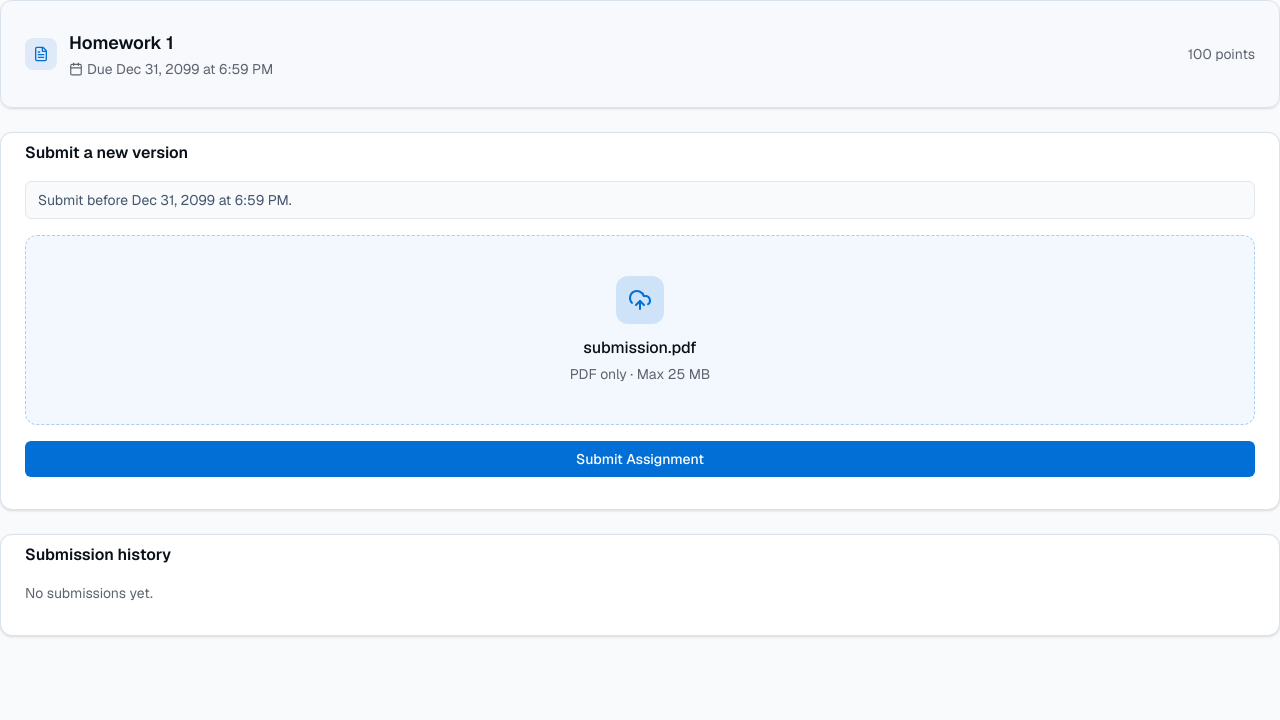
Scenario: submitNewVersion › shows fallback error when API error payload is not a string
Earlier steps of the test are not shown.
Click the button "Submit Assignment": (640, 459) [25,441,1255,477]
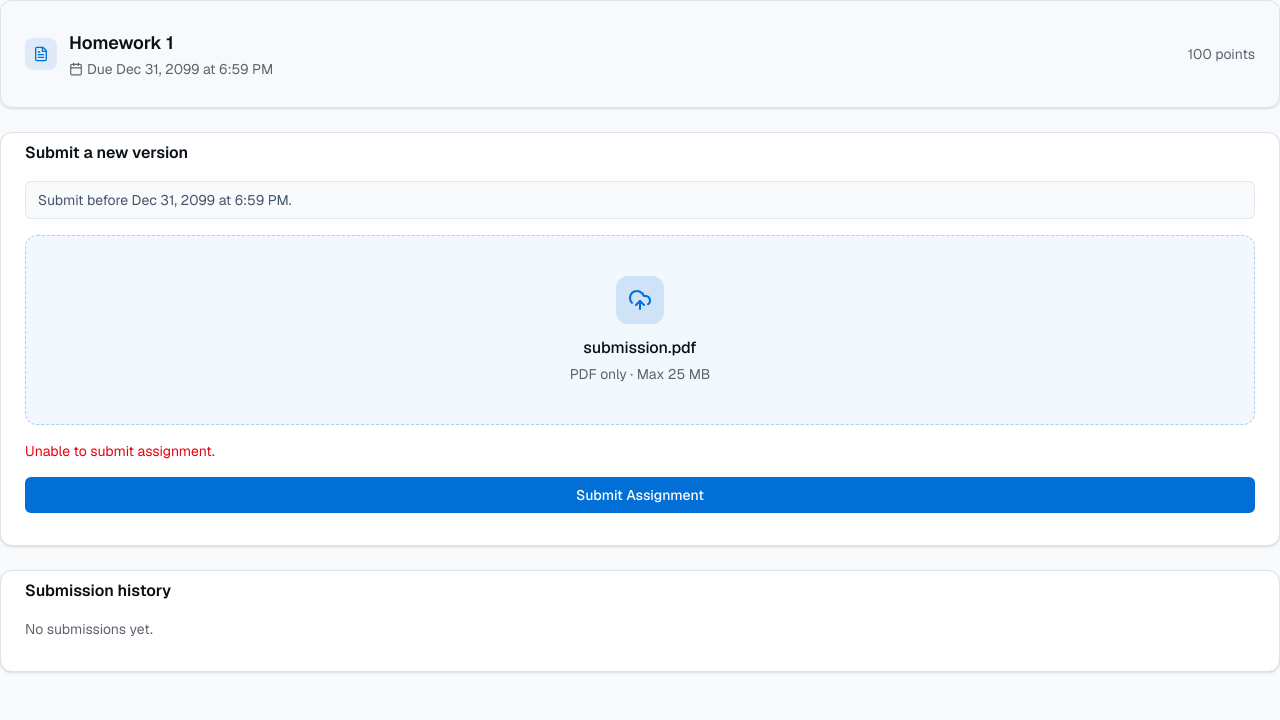
Check: the text "Unable to submit assignment." is shown, box [25,442,215,460]
